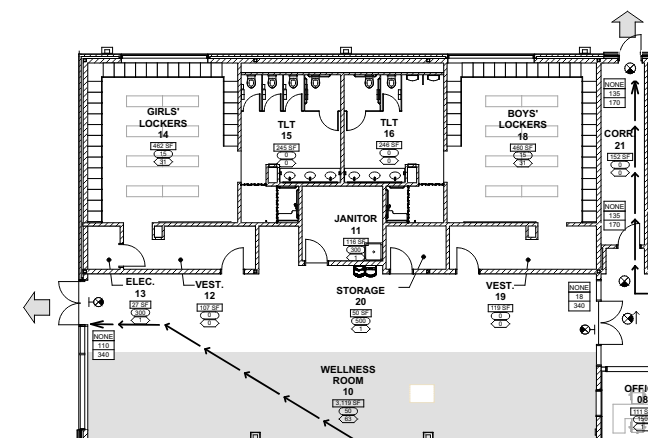door: (388, 245, 413, 281), (115, 241, 148, 268), (303, 237, 329, 270), (453, 246, 480, 276), (619, 32, 645, 63), (218, 247, 246, 274), (239, 89, 261, 116), (262, 90, 282, 116), (284, 92, 304, 113)
double door: (594, 297, 627, 347), (56, 279, 86, 328)
